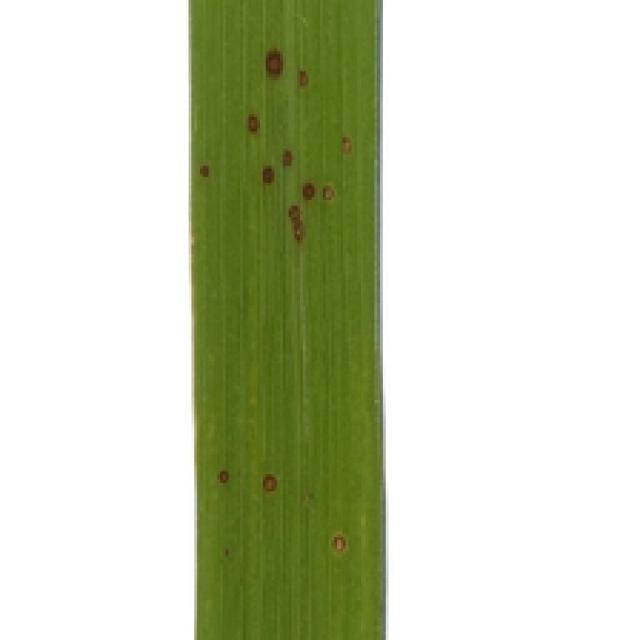Rice___Brown_Spot: (188, 0, 387, 637)
